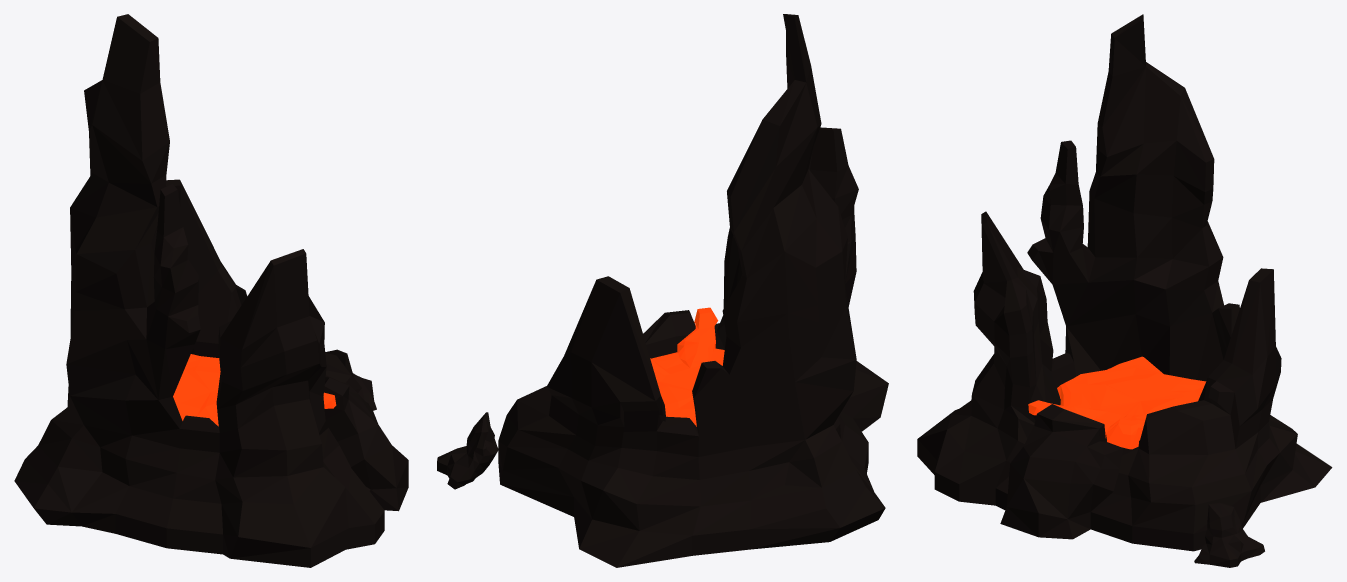
File: magma stone-high.FBX
3 renders of one model, left to right at view 1: azimuth 30°, elevation 25°; view 2: azimuth 150°, elevation 25°; view 3: azimuth 270°, elevation 25°, orthographic. The views are drawn at different scales.
Visible parts, largest first — view 1: Cylinder001; view 2: Cylinder001; view 3: Cylinder001.
Part boxes in pixels (box(x1,y1,x2,y2)): Cylinder001: box(14, 14, 408, 567); Cylinder001: box(437, 14, 888, 567); Cylinder001: box(917, 14, 1332, 567).
Bounding box in the file's own units: 87.72 × 104 × 92.
